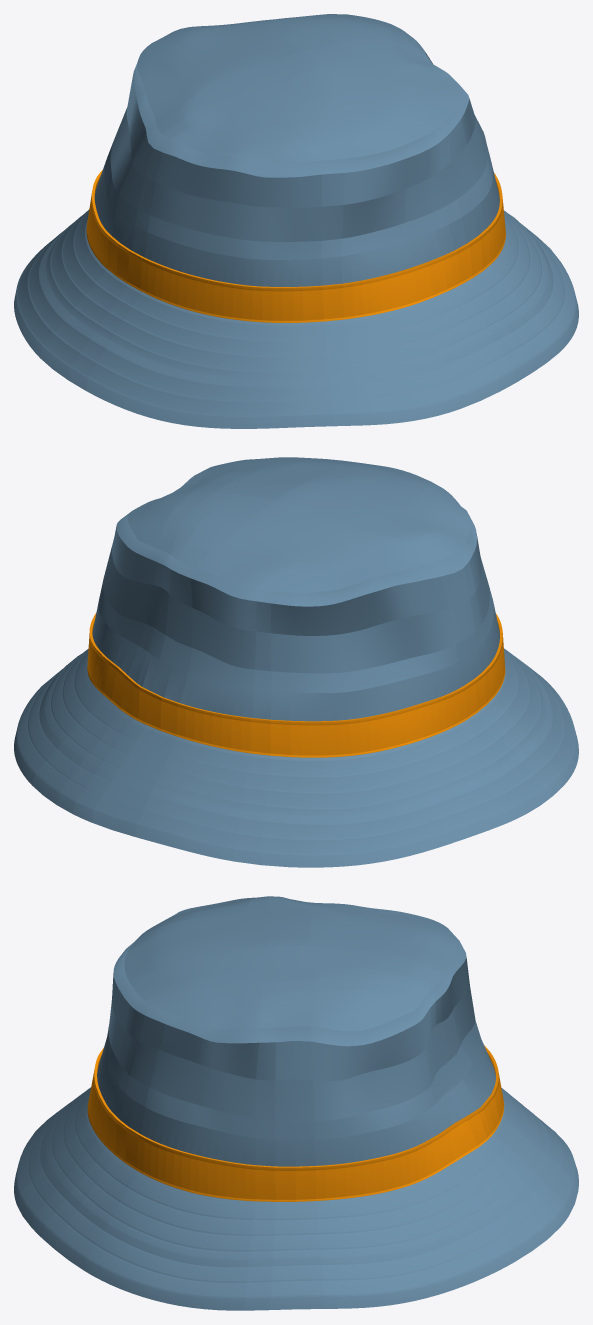
File: FisherMan_HAt.fbx
3 renders of one model, top to bottom at view 1: azimuth 30°, elevation 25°; view 2: azimuth 150°, elevation 25°; view 3: azimuth 270°, elevation 25°, orthographic.
Visible parts, largest first — view 1: fisherman_hat; view 2: fisherman_hat; view 3: fisherman_hat.
Boxes of the visible parts, x1=… form: fisherman_hat: x1=14, y1=14, x2=578, y2=428; fisherman_hat: x1=14, y1=457, x2=578, y2=867; fisherman_hat: x1=14, y1=896, x2=578, y2=1310.
Bounding box in the file's own units: 4.58 × 2.3 × 4.57.
1 material, 1 textured.
